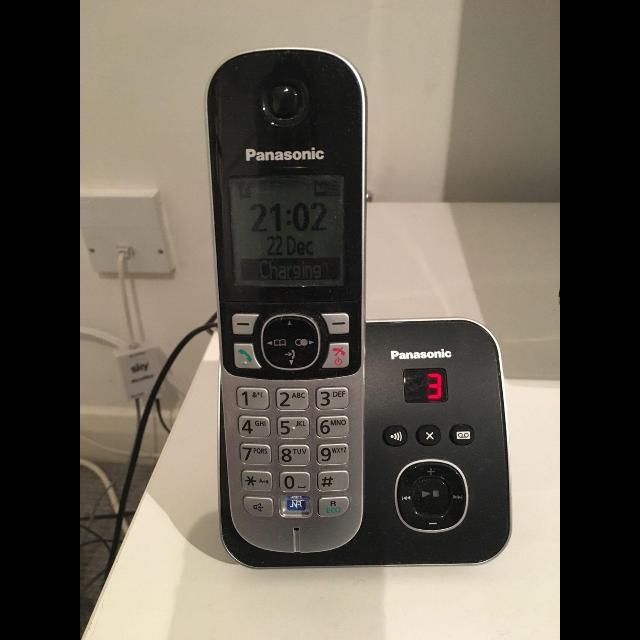Telephone-Set: (161, 27, 519, 575)
